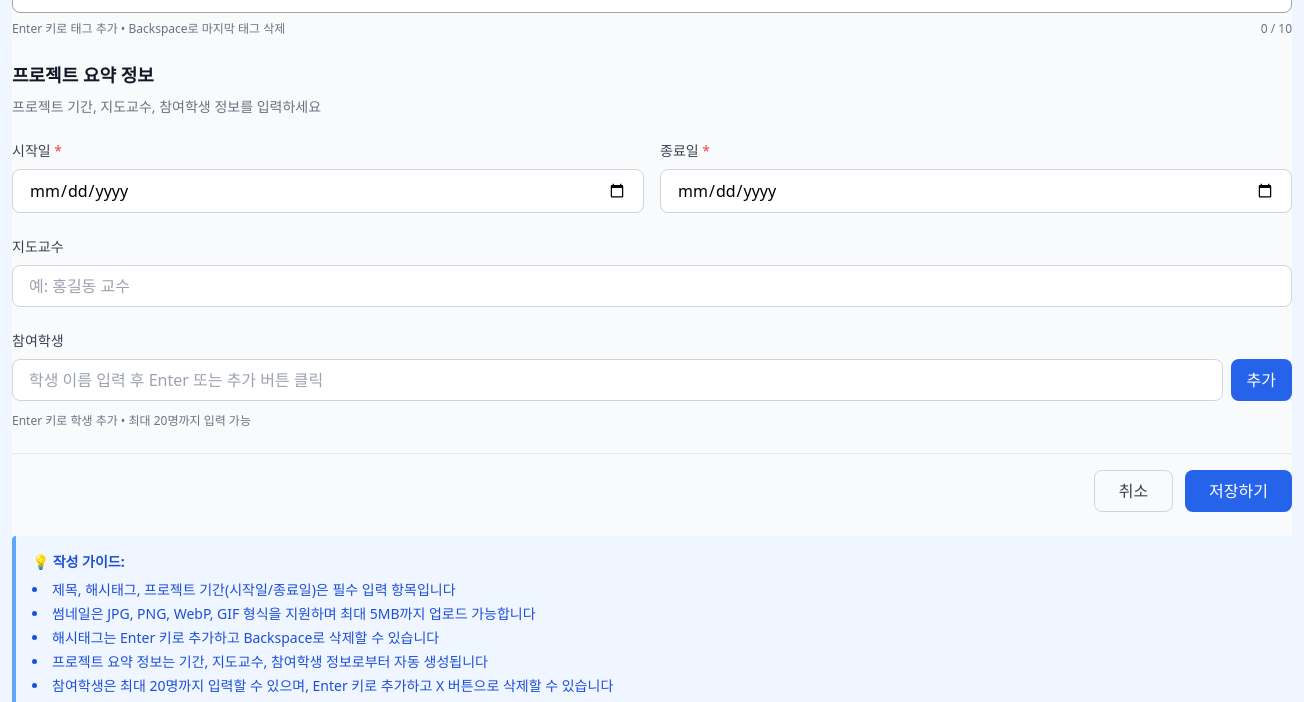
Scenario: ProjectMetadataForm › Required Field Validation › should display all errors simultaneously
The width and height of the screenshot is (1304, 702).
(page scrolled)
Step 1. Click the button "저장하기" → [1239, 491], box [1185,470,1292,512]
(page scrolled)
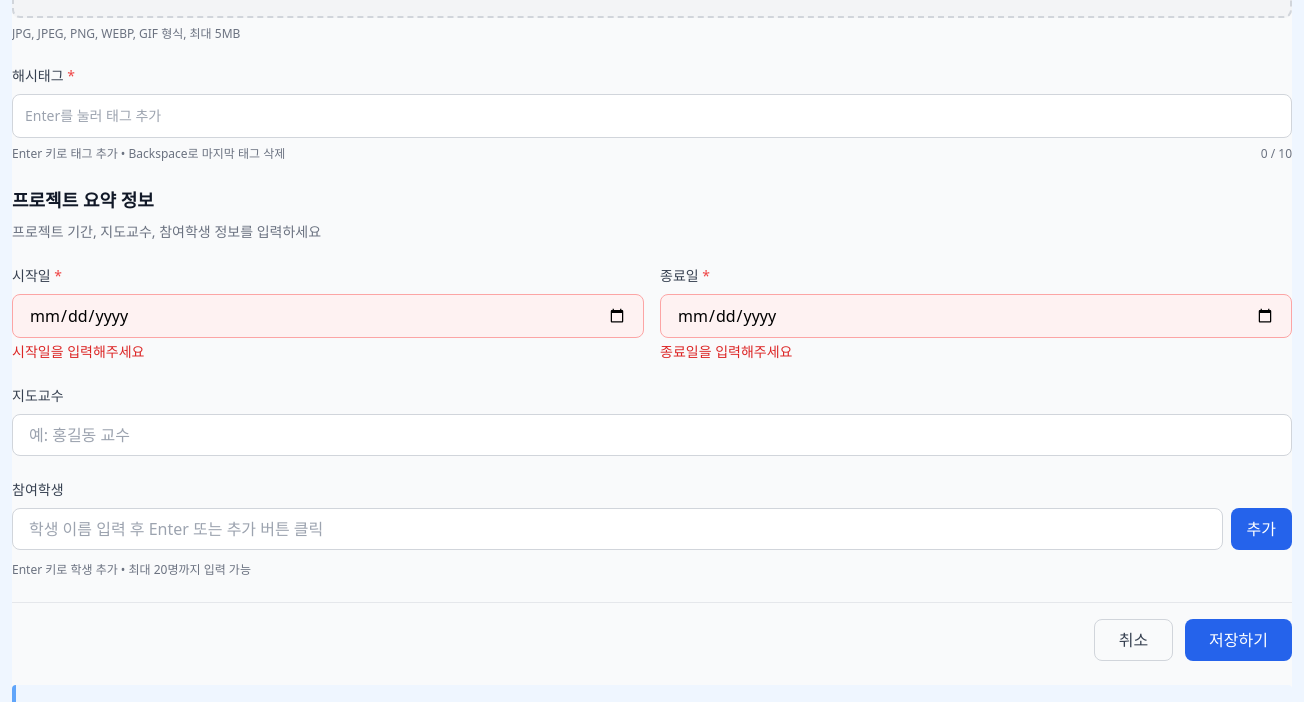
Result: the text "시작일을 입력해주세요" is shown at [12,342,144,361]
